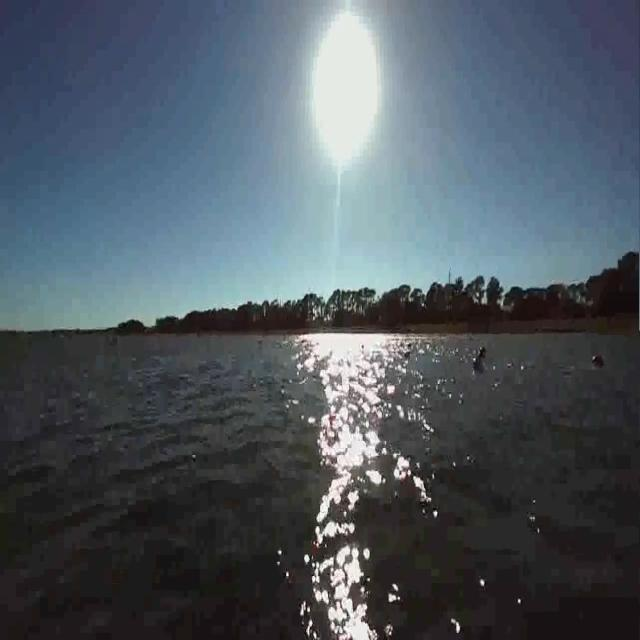red-buoy: (592, 354, 602, 368)
